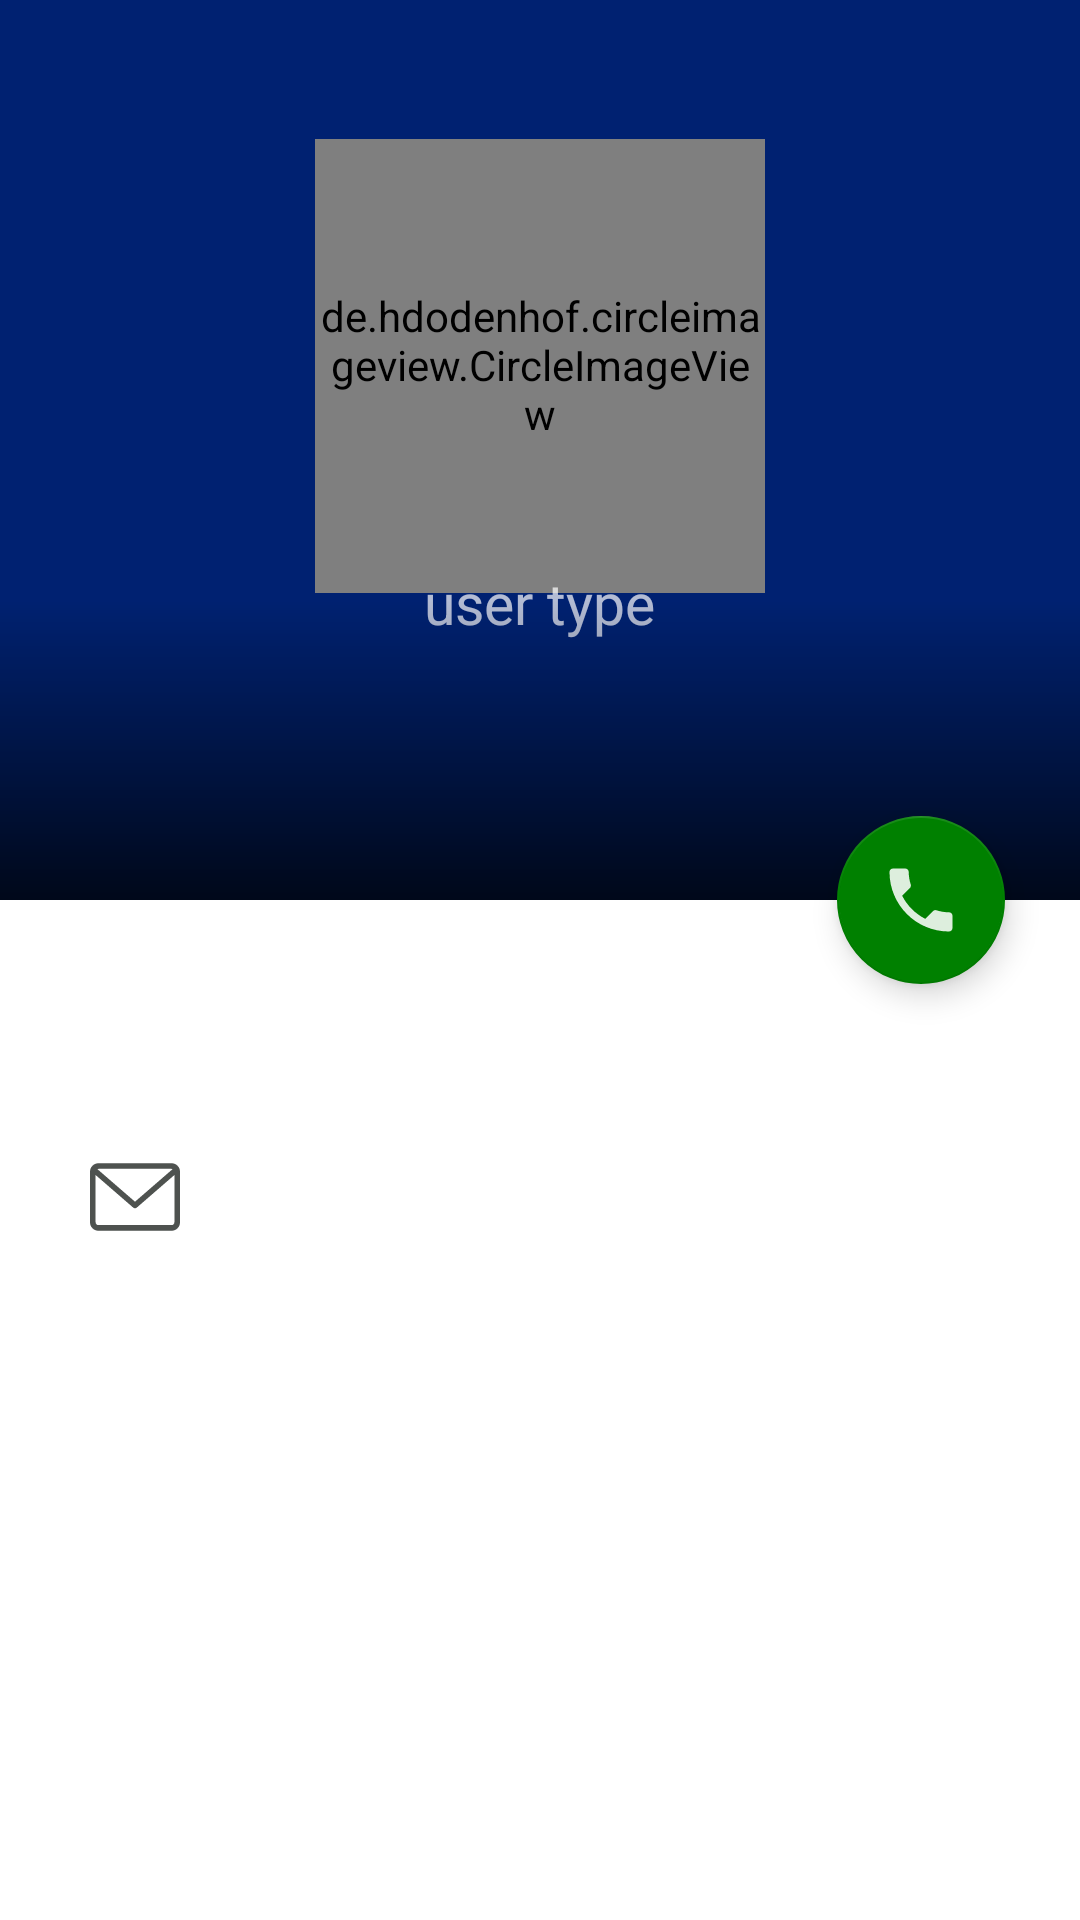

Screen size 1080w x 1920h. Icon name, then its center in pixels as point (x, y):
email: point (135, 1197)
phone: point (921, 900)
